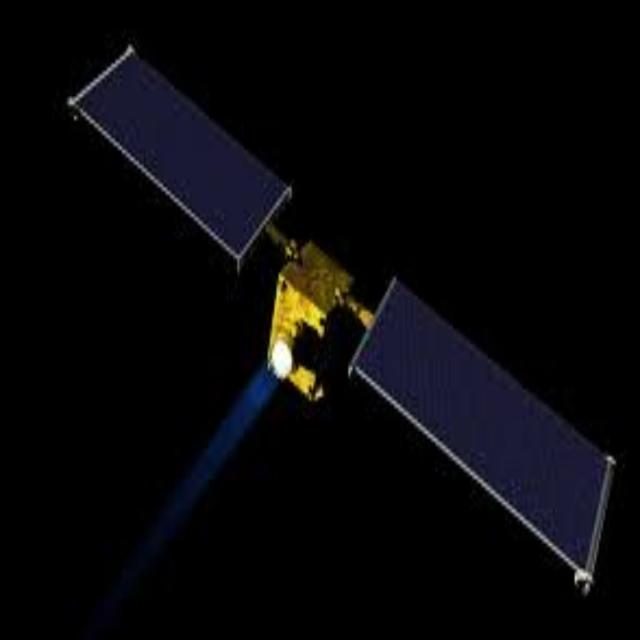medium_debris: (65, 38, 618, 594)
